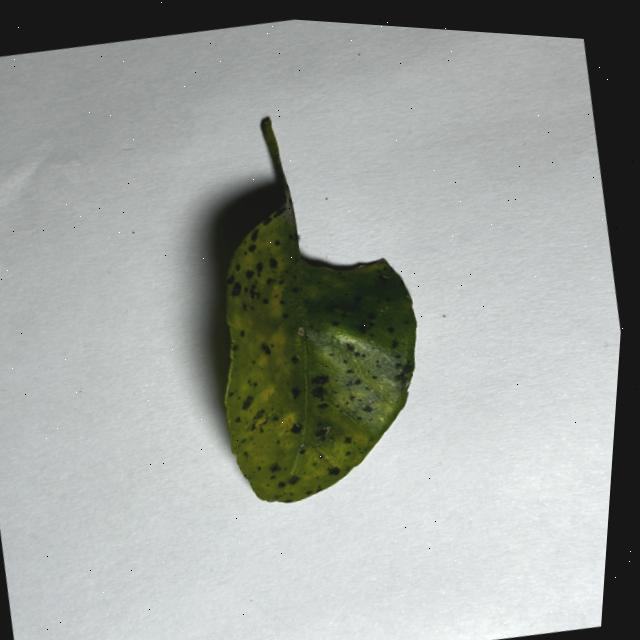sooty_mold: (224, 119, 415, 502)
